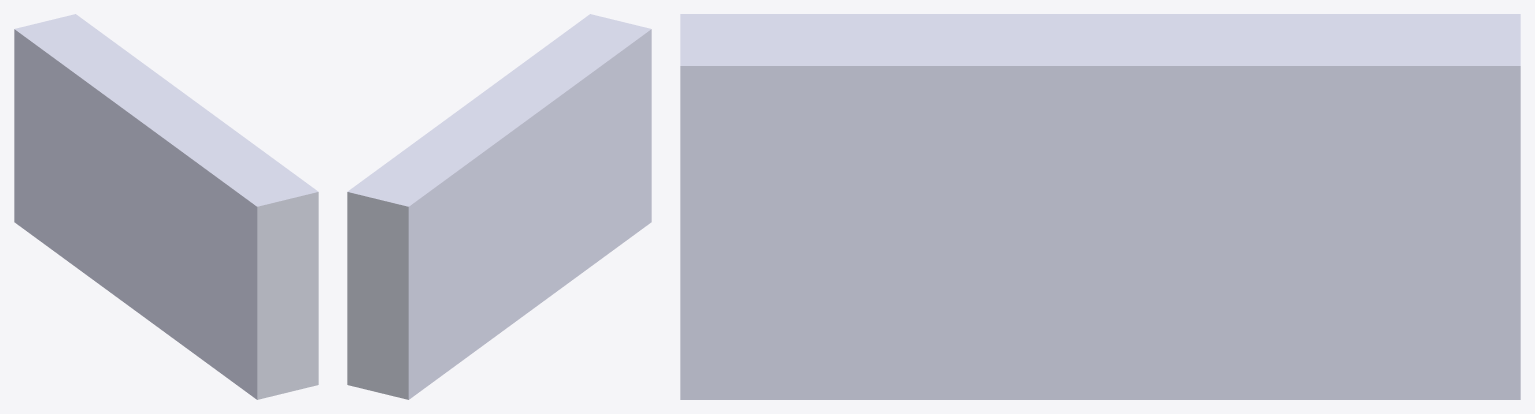
The model's file is symbol,_AlphaProta_Grey.glb.
3 renders of one model, left to right at view 1: azimuth 30°, elevation 25°; view 2: azimuth 150°, elevation 25°; view 3: azimuth 270°, elevation 25°, orthographic. The views are drawn at different scales.
Parts seen in each view (by area): view 1: ,_AlphaProta_Grey; view 2: ,_AlphaProta_Grey; view 3: ,_AlphaProta_Grey.
Boxes of the visible parts, x1,y1,x2,y2 form: ,_AlphaProta_Grey: (14, 14, 318, 399); ,_AlphaProta_Grey: (347, 14, 651, 399); ,_AlphaProta_Grey: (680, 14, 1520, 399).
Size of what is drawn, in the model's own units: 0.00658 by 0.0197 by 0.045.
2 materials, 2 textured.
